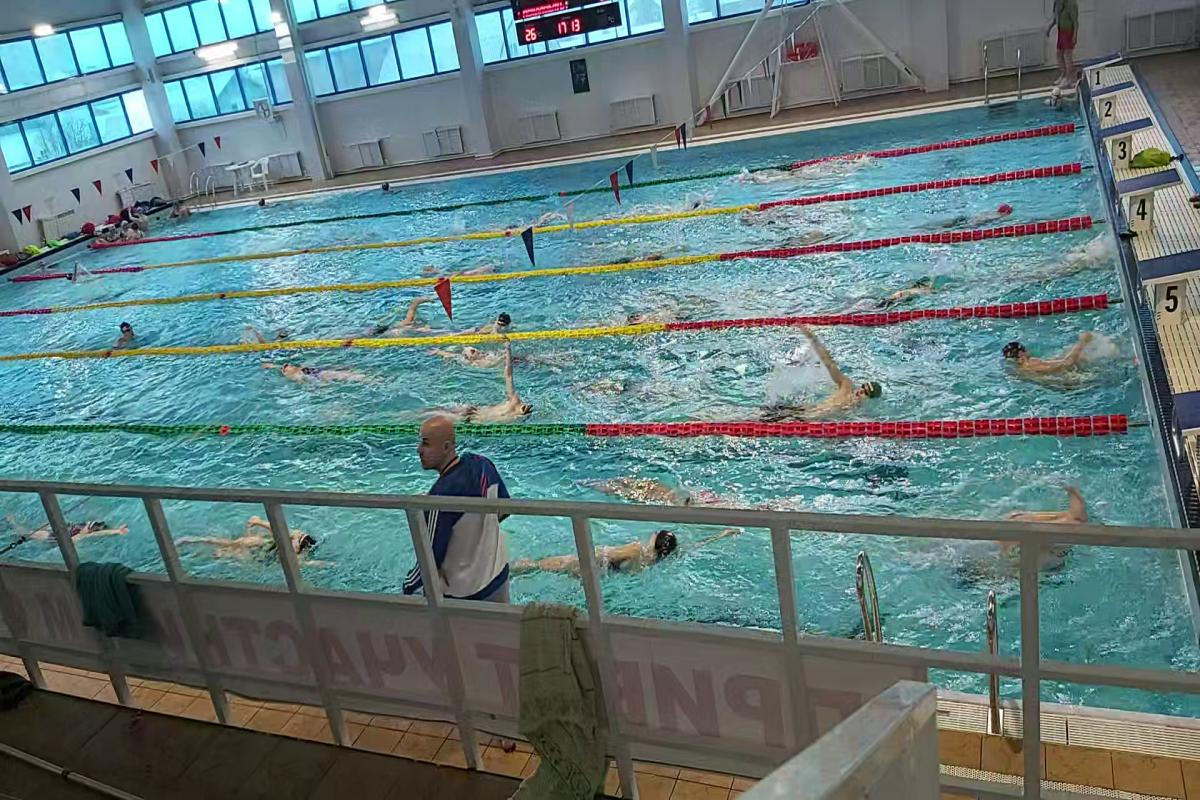swimmer: (954, 487, 1085, 576), (519, 528, 712, 588), (749, 363, 894, 427), (611, 469, 771, 514), (987, 334, 1116, 389), (197, 517, 331, 566), (2, 499, 115, 553), (274, 356, 402, 397), (838, 268, 956, 308), (445, 380, 539, 422), (939, 195, 1023, 230), (358, 303, 446, 330), (224, 316, 299, 347), (762, 224, 849, 246), (445, 351, 554, 368), (617, 301, 712, 318), (92, 324, 146, 344)
